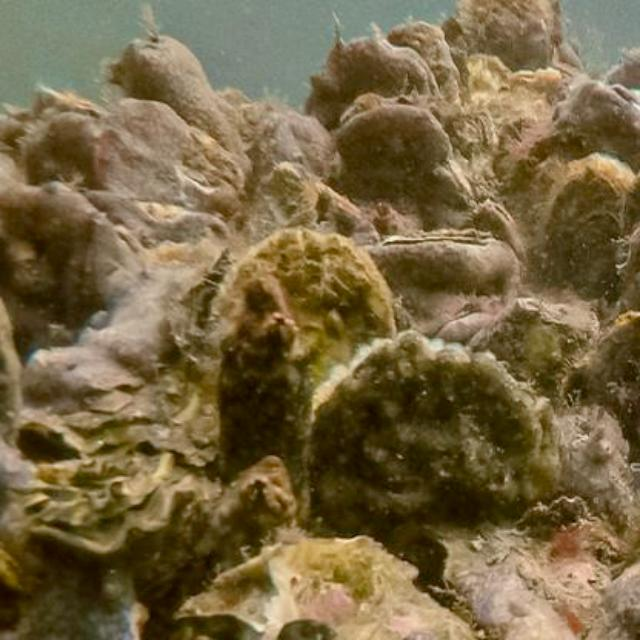Oyster-Closed: (307, 336, 559, 536), (224, 223, 399, 388), (0, 179, 128, 362), (223, 282, 311, 516), (335, 98, 468, 232), (557, 316, 638, 405)
Oyster-Open: (372, 229, 522, 352), (20, 454, 169, 554), (556, 83, 638, 170), (465, 200, 526, 262)
